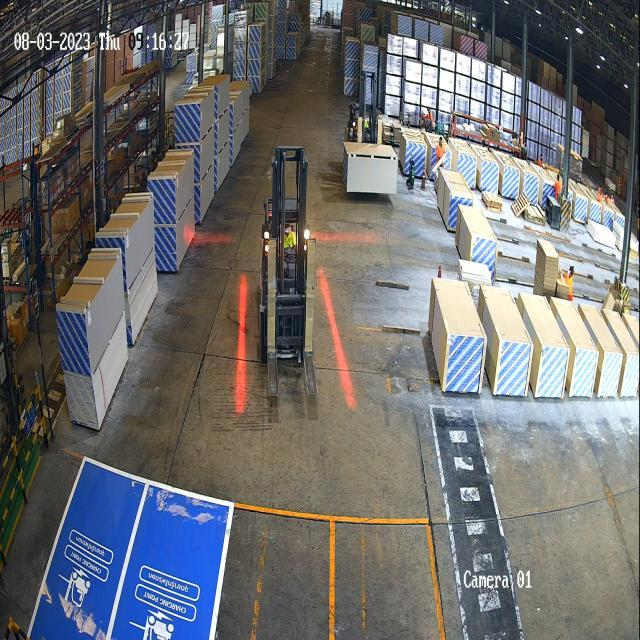forklift: (255, 132, 323, 408), (347, 90, 382, 146)
person: (566, 268, 574, 298), (436, 137, 444, 166)
